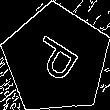P_SE: (26, 31, 86, 88)
